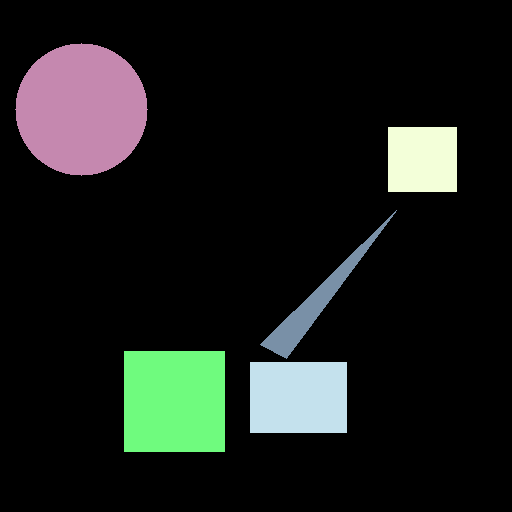circle: (15, 43, 147, 175)
rectangle: (250, 362, 346, 432)
square: (124, 351, 224, 451), (388, 127, 456, 191)
triangle: (260, 210, 396, 358)
